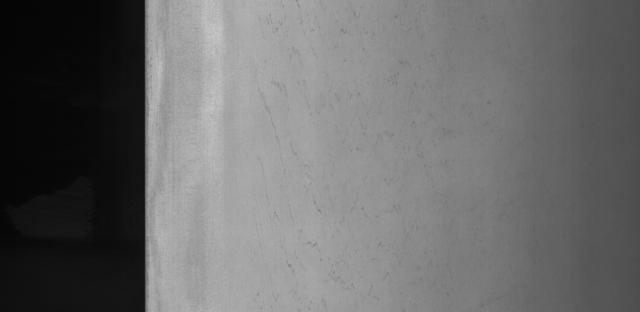silk_spot: (254, 46, 380, 300)
